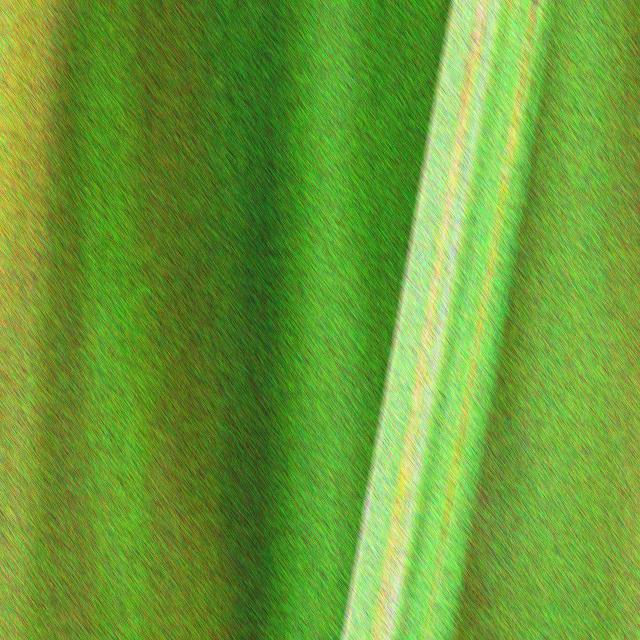BLS: (372, 0, 488, 640), (423, 0, 539, 640), (381, 335, 438, 640), (526, 0, 549, 131), (399, 535, 418, 640), (451, 626, 454, 640), (506, 0, 510, 10)
